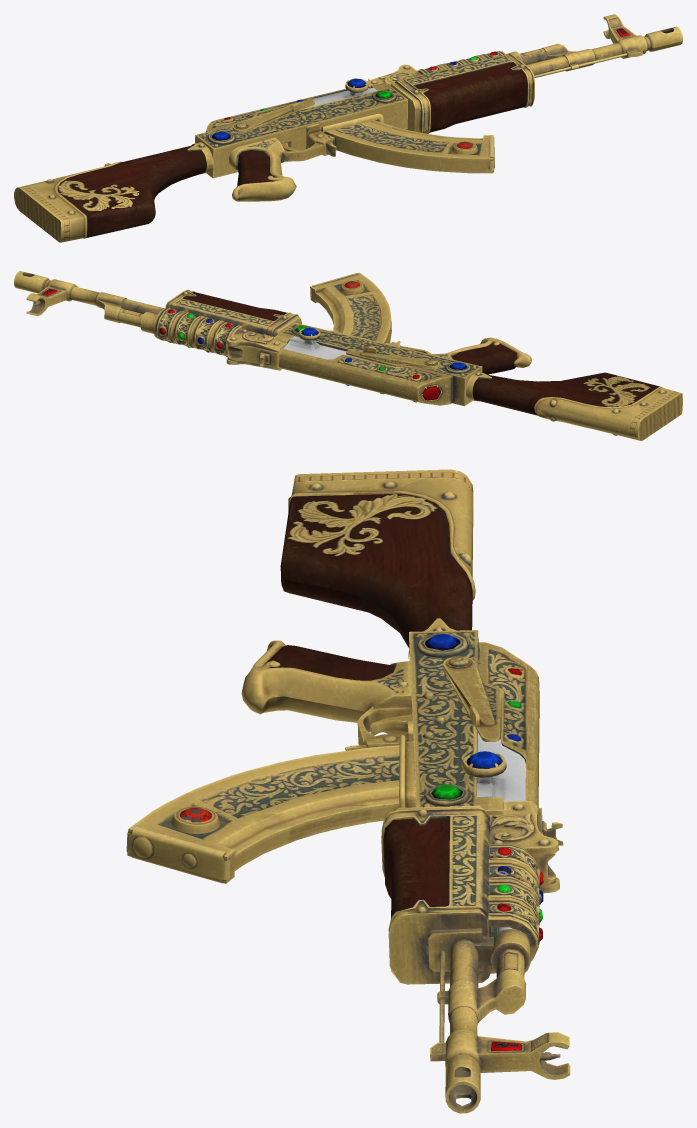
Rendered from ak47u_med.worldmodel.glb.
3 renders of one model, top to bottom at view 1: azimuth 30°, elevation 25°; view 2: azimuth 150°, elevation 25°; view 3: azimuth 270°, elevation 25°, orthographic. The views are drawn at different scales.
Visible parts, largest first — view 1: MedAssaultRifle_LOD0, MedAssaultRifleMag_LOD0; view 2: MedAssaultRifle_LOD0, MedAssaultRifleMag_LOD0; view 3: MedAssaultRifle_LOD0, MedAssaultRifleMag_LOD0.
Boxes of the visible parts, x1,y1,x2,y2 form: MedAssaultRifle_LOD0: (14, 14, 682, 242); MedAssaultRifleMag_LOD0: (323, 120, 494, 173); MedAssaultRifle_LOD0: (14, 271, 682, 440); MedAssaultRifleMag_LOD0: (310, 272, 391, 362); MedAssaultRifle_LOD0: (241, 469, 570, 1113); MedAssaultRifleMag_LOD0: (126, 745, 399, 883).
Size of the model in its own units: 0.805 by 0.0569 by 0.2485.
Materials: 3 (3 with a texture image).
